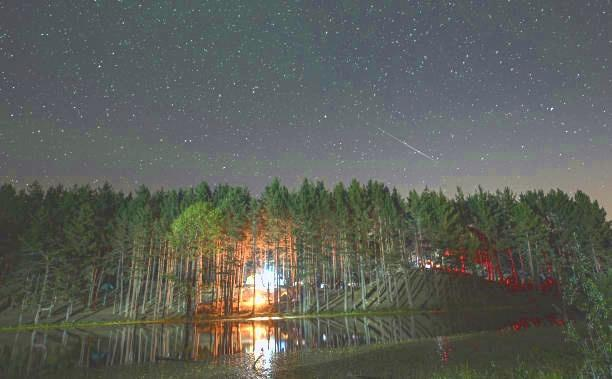meteorite: (374, 127, 445, 163)
